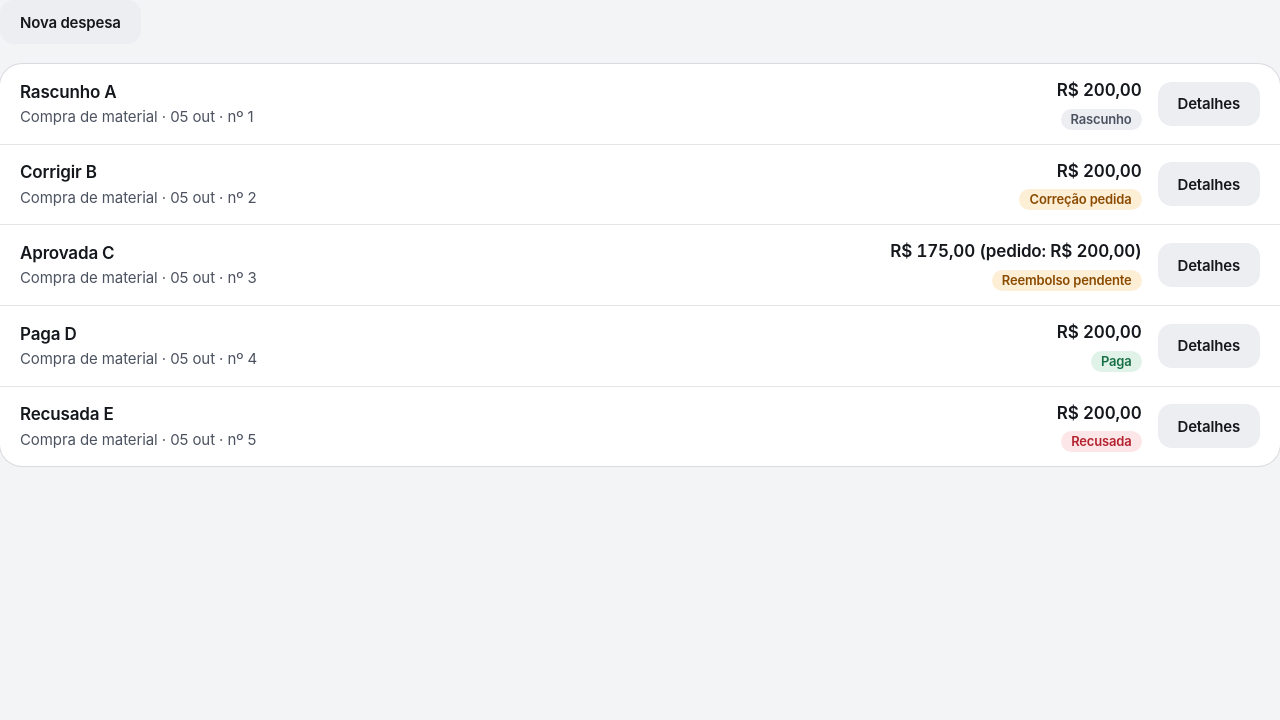
Scenario: Minhas despesas (professora) › lista as proprias despesas com o status em portugues; abre o detalhe sob demanda
Check: the text "Rascunho" is shown, box 1060,109 -> 1142,130
Check: the text "Correção pedida" is shown, box 1020,189 -> 1142,210
Step 1. Click the button with aria-label "Abrir detalhes da despesa nº 2" → [1209, 184], box 1158,162 -> 1260,206
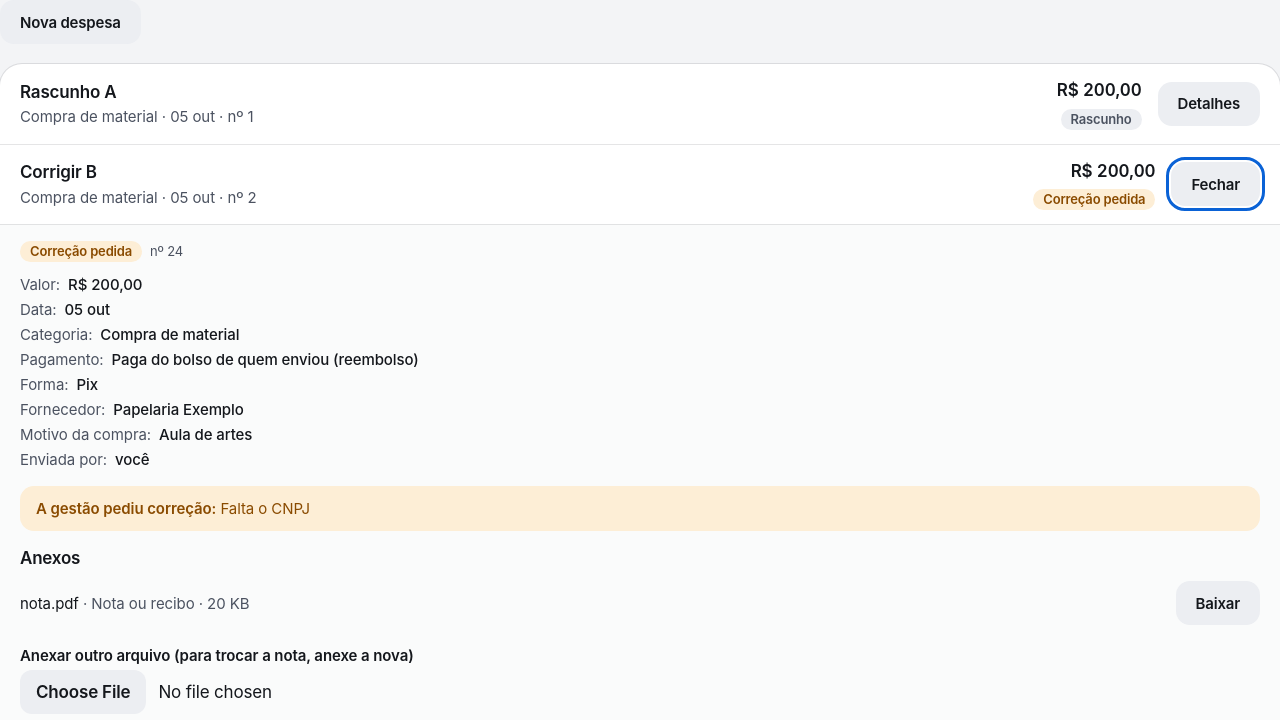
Check: the text "A gestão pediu correção:" is shown, box 36,499 -> 216,518
